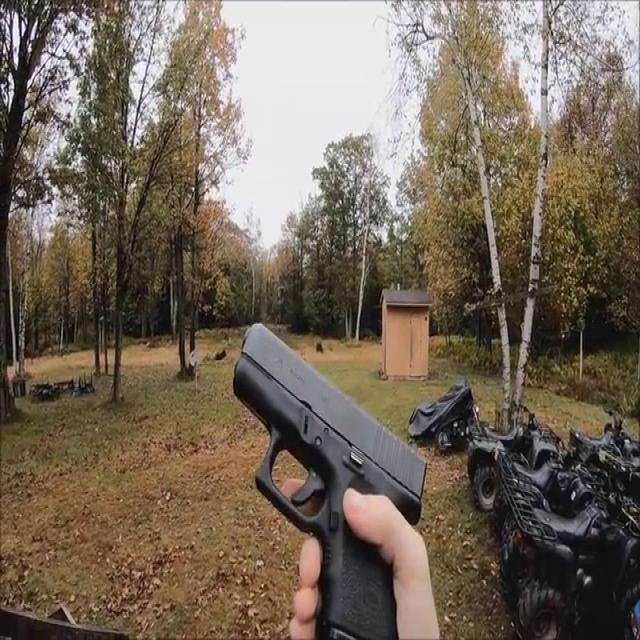gun-knife-thesis - v11 Yolov5 augmented: (222, 305, 426, 639)
